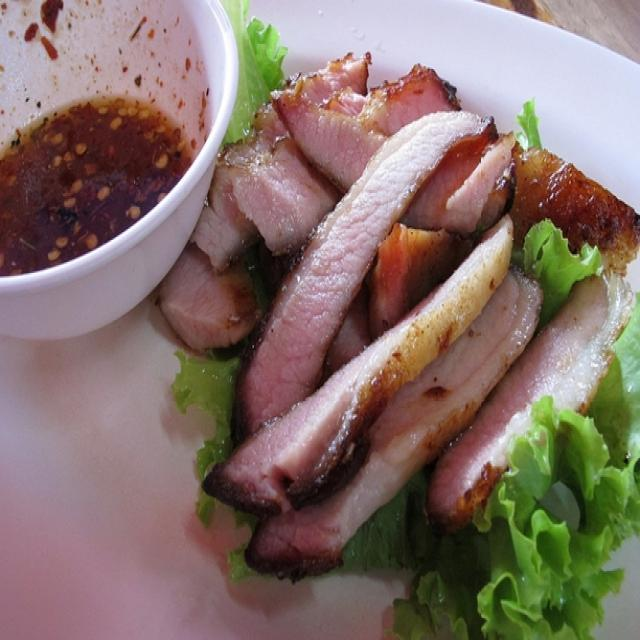猪肉菜式: (134, 21, 623, 580)
